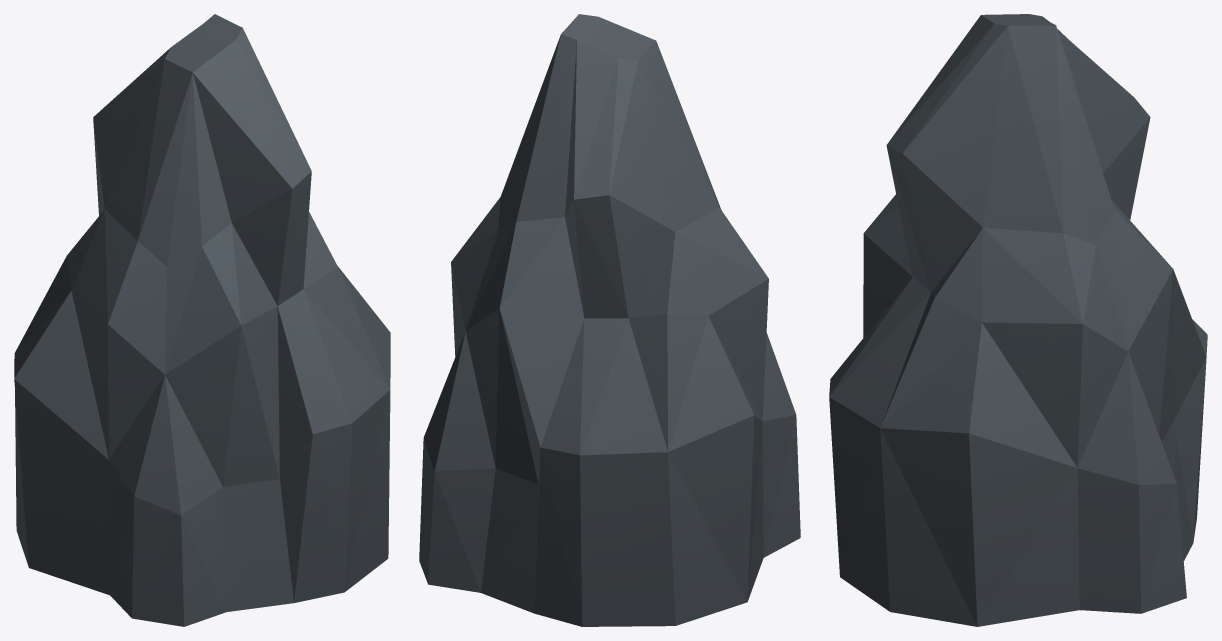
File: rock.fbx
The picture shows the model from 3 angles, left to right: view 1: azimuth 30°, elevation 25°; view 2: azimuth 150°, elevation 25°; view 3: azimuth 270°, elevation 25°; orthographic projection. The views are drawn at different scales.
Parts seen in each view (by area): view 1: Rock_Large_12; view 2: Rock_Large_12; view 3: Rock_Large_12.
Part boxes in pixels (bbox=[...]): Rock_Large_12: bbox=[14, 14, 390, 626]; Rock_Large_12: bbox=[419, 14, 800, 626]; Rock_Large_12: bbox=[829, 14, 1207, 626].
Size of the model in its own units: 331 by 491 by 312.
1 material, 1 textured.
